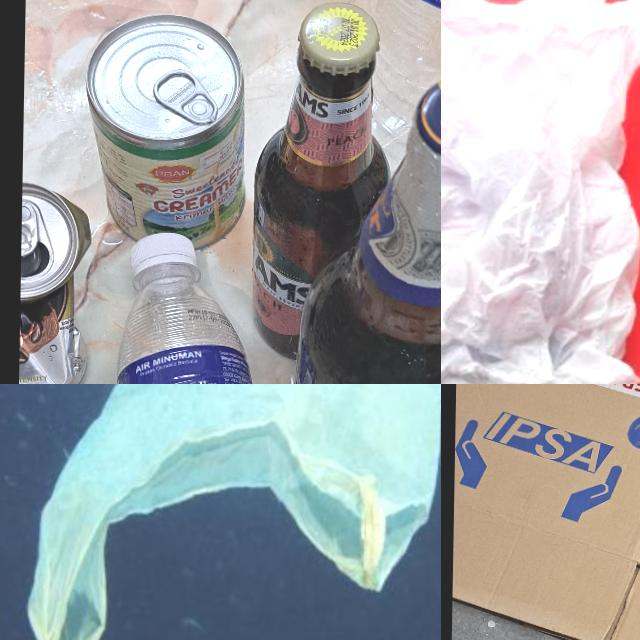aba de lata: (152, 66, 219, 122), (20, 201, 38, 255)
garrafa de vidro: (252, 0, 394, 362), (284, 72, 441, 384)
garrafa plástica: (109, 262, 308, 384), (368, 0, 441, 152)
lata: (85, 12, 247, 252), (18, 184, 91, 384)
papelão: (450, 384, 640, 640)
sacola plástica: (22, 384, 441, 640), (441, 0, 640, 384)
tampa plástica: (128, 231, 199, 290)
